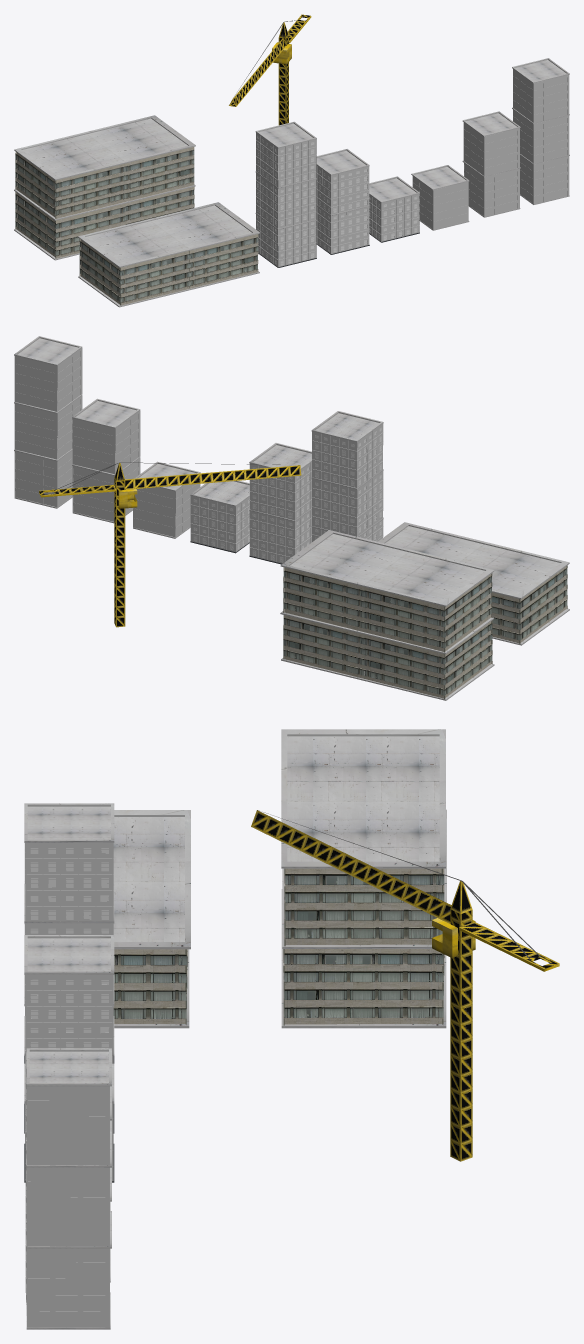
3 views of the same model, one above another, from view 1: azimuth 30°, elevation 25°; view 2: azimuth 150°, elevation 25°; view 3: azimuth 270°, elevation 25° (orthographic). The views are drawn at different scales.
Parts seen in each view (by area): view 1: Cube.022, Cube.018, Cube.006, buildingshighrise0494-9-l.014, Cube.011, Cube.002, Cube.009, Cube, Cube.023; view 2: Cube.022, buildingshighrise0494-9-l.014, Cube.018, Cube.006, Cube.011, Cube.002, Cube.023, Cube, Cube.009; view 3: Cube.022, buildingshighrise0494-9-l.014, Cube.018, Cube.023, Cube.006, Cube.002.
Boxes of the visible parts, x1,y1,x2,y2 form: Cube.022: (14, 115, 195, 260); Cube.018: (78, 202, 259, 307); Cube.006: (255, 121, 316, 267); buildingshighrise0494-9-l.014: (512, 58, 569, 204); Cube.011: (462, 111, 520, 217); Cube.002: (316, 149, 369, 254); Cube.009: (411, 165, 469, 230); Cube: (369, 176, 419, 242); Cube.023: (229, 14, 311, 125); Cube.022: (280, 530, 494, 700); buildingshighrise0494-9-l.014: (14, 336, 82, 508); Cube.018: (378, 522, 569, 645); Cube.006: (311, 411, 383, 541); Cube.011: (72, 398, 140, 523); Cube.002: (249, 443, 311, 564); Cube.023: (39, 462, 301, 627); Cube: (190, 480, 249, 553); Cube.009: (133, 461, 200, 538); Cube.022: (281, 729, 446, 1028); buildingshighrise0494-9-l.014: (25, 1048, 111, 1329); Cube.018: (24, 810, 190, 1028); Cube.023: (251, 810, 559, 1161); Cube.006: (24, 803, 114, 1063); Cube.002: (24, 935, 114, 1133).
Size of the model in its own units: 1179 by 347 by 606.
